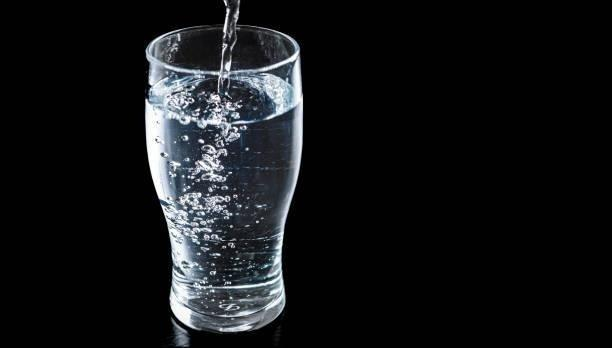glass-normal: (143, 24, 305, 336)
